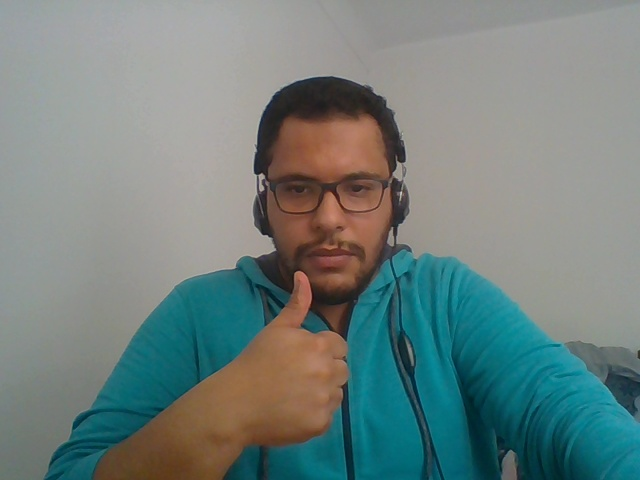ok: (205, 254, 356, 472)
